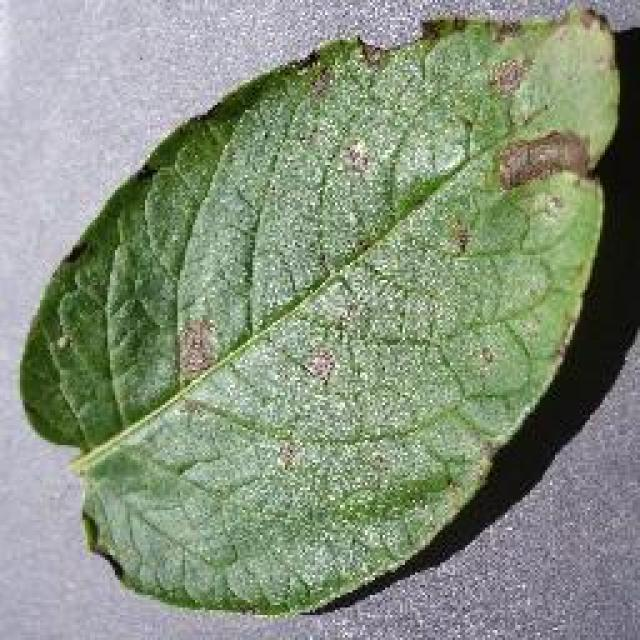early_blight: (15, 5, 625, 620)
